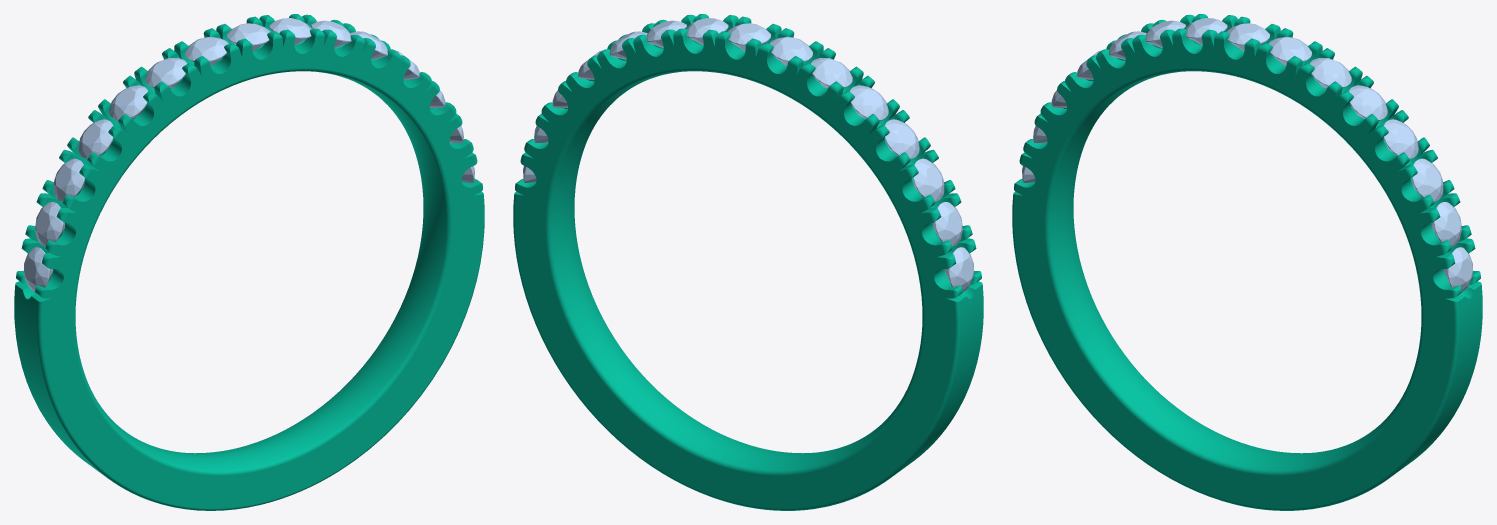
3 renders of one model, left to right at view 1: azimuth 30°, elevation 25°; view 2: azimuth 150°, elevation 25°; view 3: azimuth 330°, elevation 25°, orthographic.
Visible parts, largest first — view 1: half eternity ring.3dm, Diamond_Round (×9); view 2: half eternity ring.3dm, Diamond_Round (×9); view 3: half eternity ring.3dm, Diamond_Round (×9).
Part boxes in pixels (left/top/right/bottom): half eternity ring.3dm: left=14, top=14, right=484, bottom=510; Diamond_Round (×9): left=24, top=18, right=311, bottom=291; half eternity ring.3dm: left=513, top=14, right=983, bottom=510; Diamond_Round (×9): left=686, top=18, right=973, bottom=291; half eternity ring.3dm: left=1012, top=14, right=1482, bottom=510; Diamond_Round (×9): left=1185, top=18, right=1472, bottom=291.
Size of the model in its own units: 2.82 by 2.82 by 0.2883.
